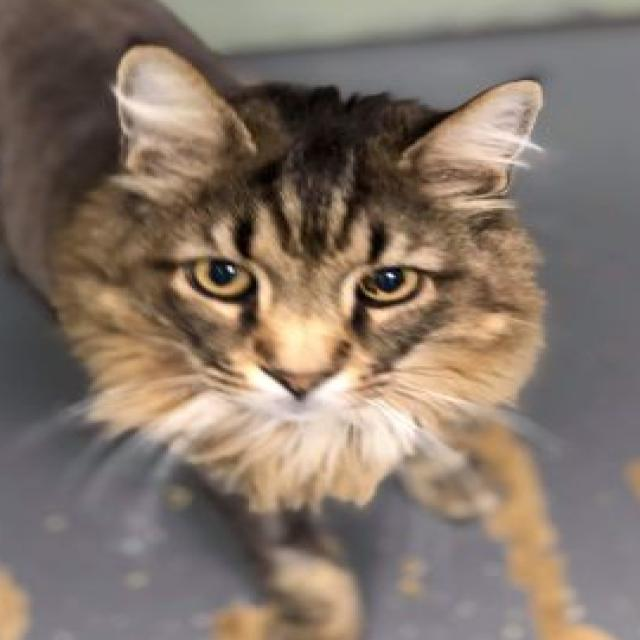Maine Coon: (0, 0, 559, 517)
